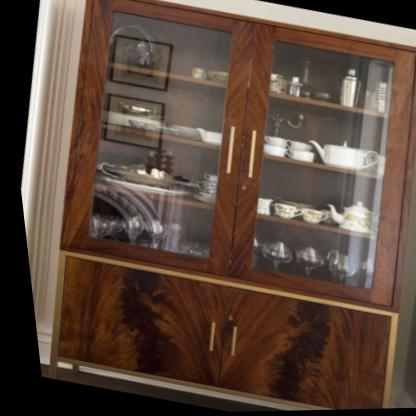Cupboard: (45, 0, 416, 412)
